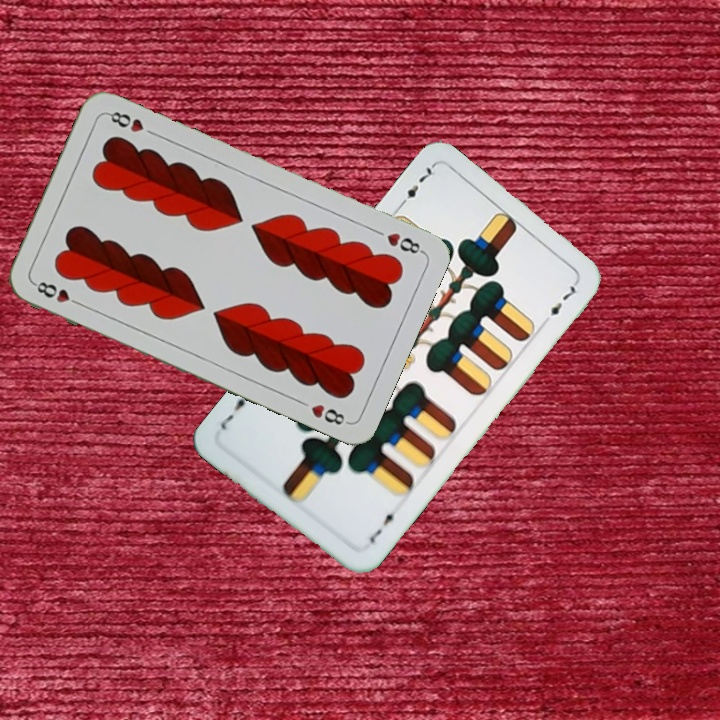E7: (394, 161, 437, 211), (365, 506, 401, 546)
H8: (30, 277, 86, 309), (383, 228, 426, 257)
